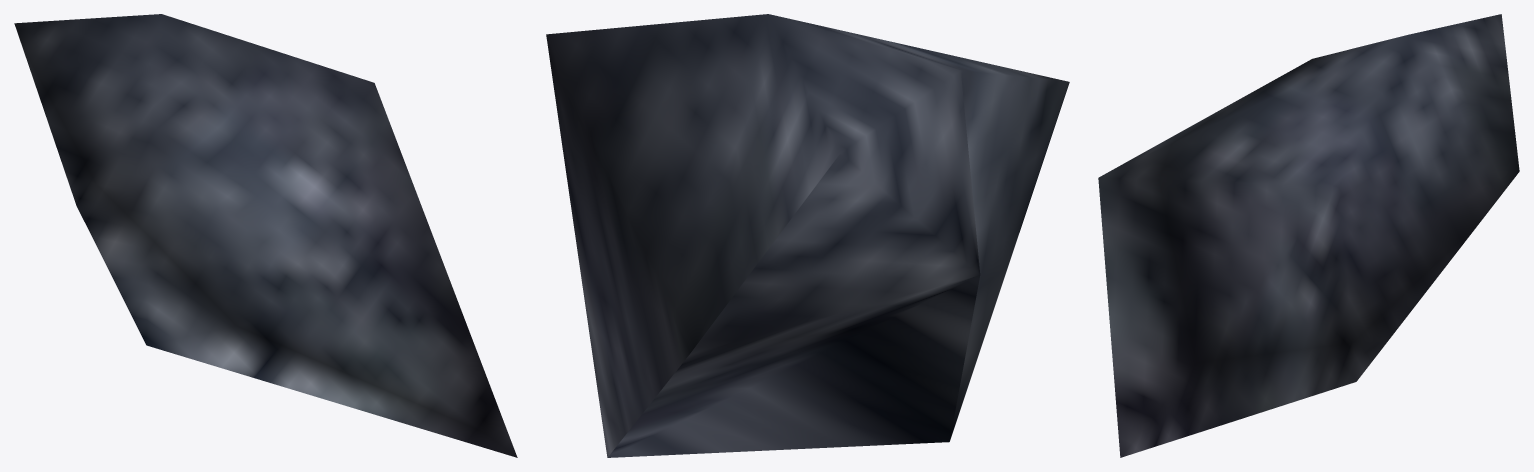
File: nar_condra_7_stone_2.glb
3 views of the same model, side by side, from view 1: azimuth 30°, elevation 25°; view 2: azimuth 150°, elevation 25°; view 3: azimuth 270°, elevation 25° (orthographic). The views are drawn at different scales.
Visible parts, largest first — view 1: model_nar_condra_7_stone_2; view 2: model_nar_condra_7_stone_2; view 3: model_nar_condra_7_stone_2.
Part boxes in pixels (box(x1,y1,x2,y2)): model_nar_condra_7_stone_2: box(14, 14, 517, 457); model_nar_condra_7_stone_2: box(546, 14, 1069, 457); model_nar_condra_7_stone_2: box(1098, 14, 1519, 457).
Size of the model in its own units: 0.1837 by 0.2168 by 0.2455.
Materials: 1 (1 with a texture image).
